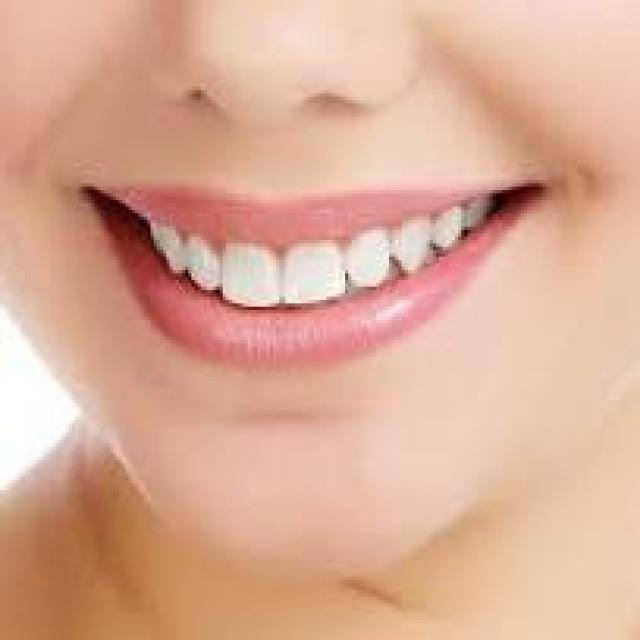tooth: (276, 247, 358, 303), (220, 243, 286, 310), (336, 237, 404, 290), (185, 234, 226, 294), (392, 223, 433, 270), (427, 210, 468, 243)
